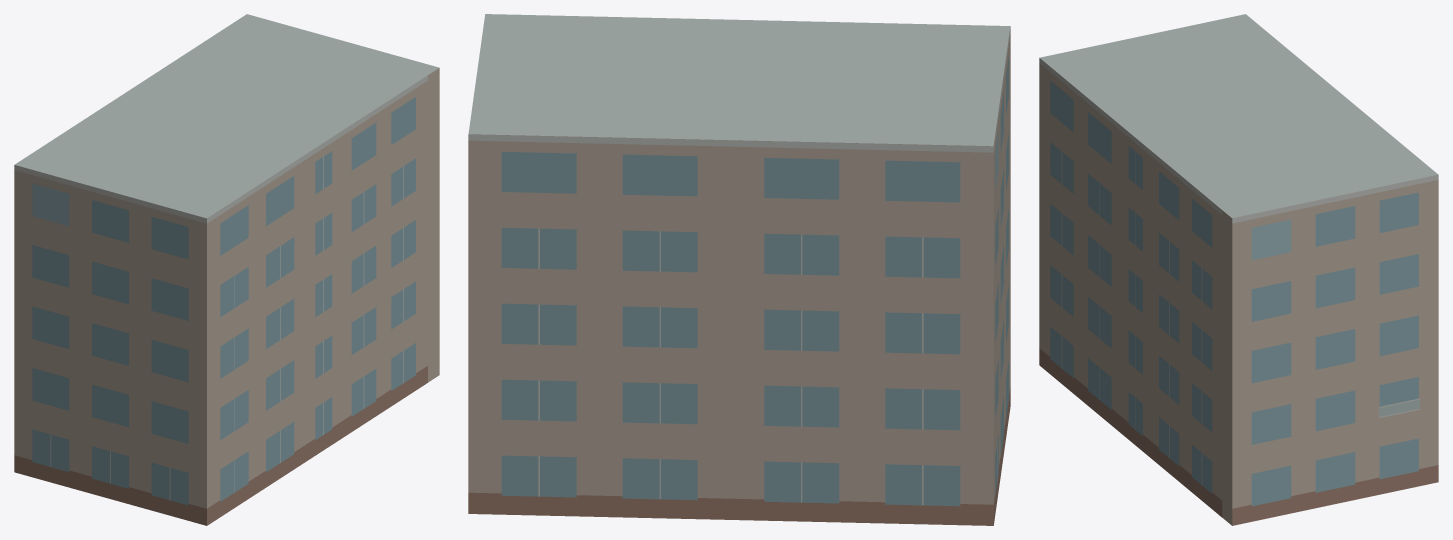
The model's file is survey-upis-32736469.glb.
3 views of the same model, side by side, from view 1: azimuth 30°, elevation 25°; view 2: azimuth 150°, elevation 25°; view 3: azimuth 270°, elevation 25° (orthographic). The views are drawn at different scales.
Visible parts, largest first — view 1: survey-upis-32736469.tmp; view 2: survey-upis-32736469.tmp; view 3: survey-upis-32736469.tmp.
Part boxes in pixels (<box>): survey-upis-32736469.tmp: <box>14,14,439,525</box>; survey-upis-32736469.tmp: <box>468,14,1010,525</box>; survey-upis-32736469.tmp: <box>1039,14,1438,525</box>.
Bounding box in the file's own units: 20.52 × 14.4 × 16.94.
